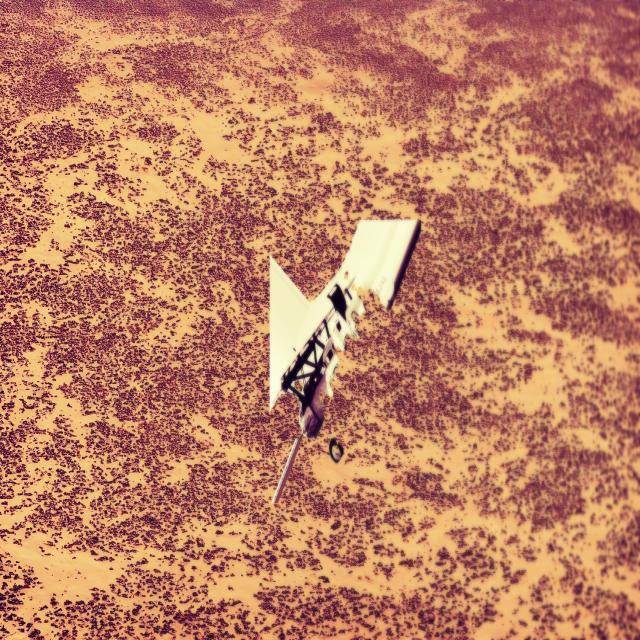airplane: (268, 217, 421, 506)
